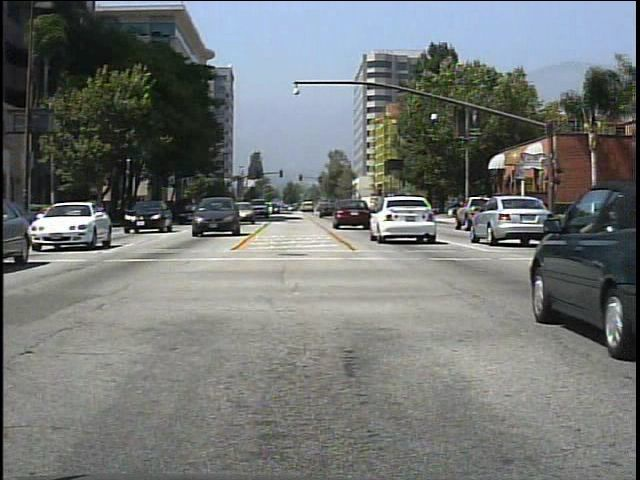person: (528, 194, 547, 229), (492, 189, 510, 224)
